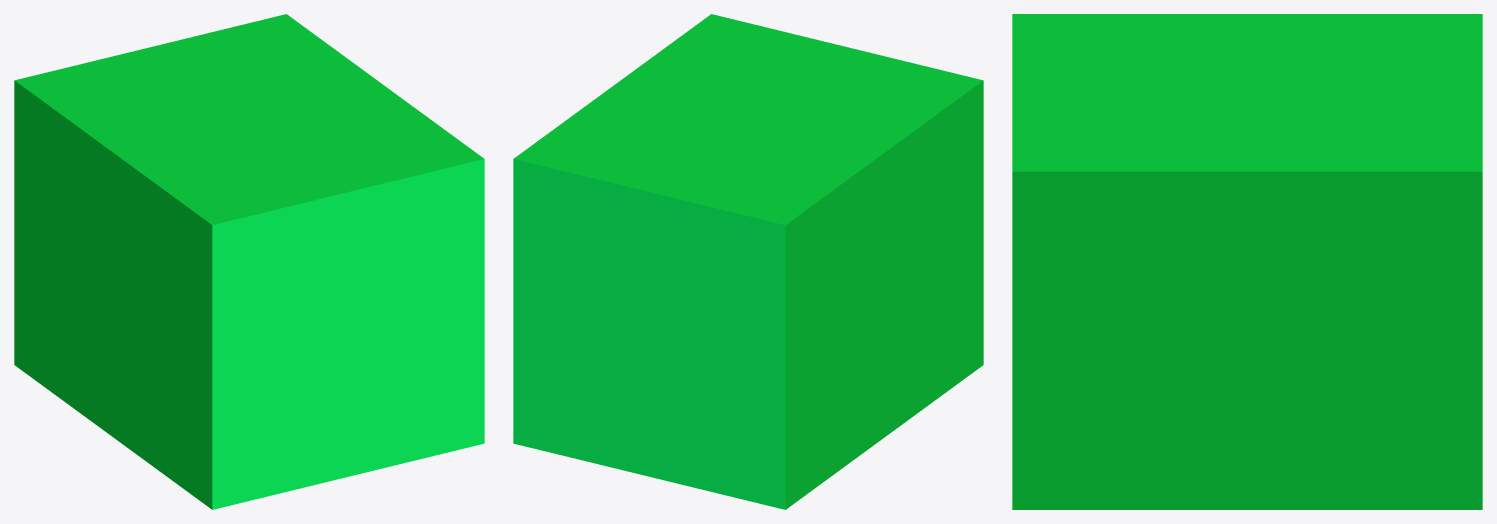
3 renders of one model, left to right at view 1: azimuth 30°, elevation 25°; view 2: azimuth 150°, elevation 25°; view 3: azimuth 270°, elevation 25°, orthographic. The views are drawn at different scales.
Visible parts, largest first — view 1: ._DeltaBlock_Green; view 2: ._DeltaBlock_Green; view 3: ._DeltaBlock_Green.
Boxes of the visible parts, left/top/right/bottom form: ._DeltaBlock_Green: left=14, top=14, right=484, bottom=509; ._DeltaBlock_Green: left=513, top=14, right=983, bottom=509; ._DeltaBlock_Green: left=1012, top=14, right=1482, bottom=509.
Size of what is drawn, in the model's own units: 0.0357 by 0.0357 by 0.045.
Materials: 2 (2 with a texture image).
